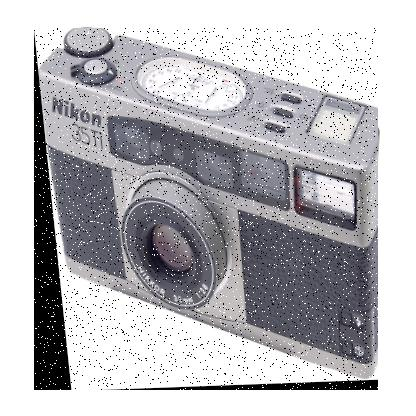Camera: (35, 29, 380, 392)
